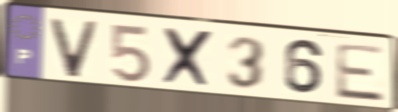3: (224, 35, 268, 91)
5: (108, 21, 154, 85)
6: (283, 37, 325, 99)
E: (333, 41, 388, 104)
V: (47, 16, 101, 80)
X: (161, 25, 217, 92)
